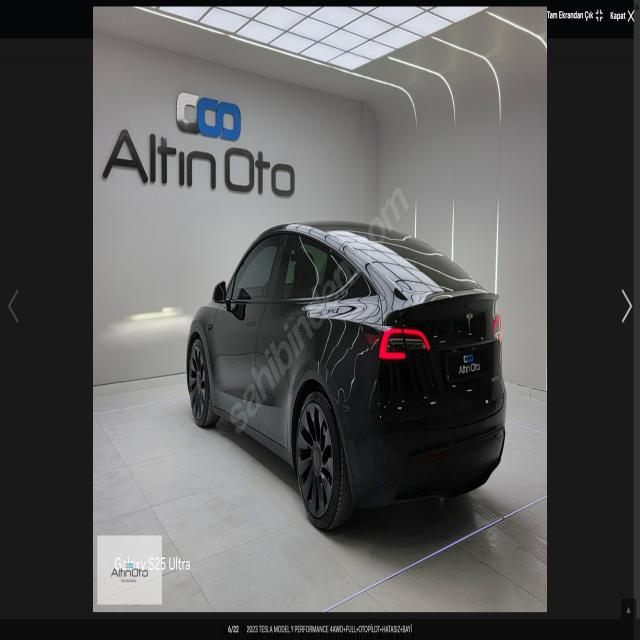tesla: (460, 308, 479, 332)
